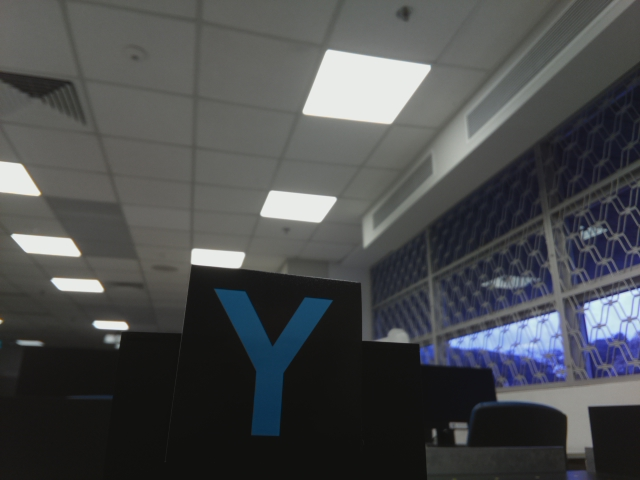y: (206, 285, 326, 446)
